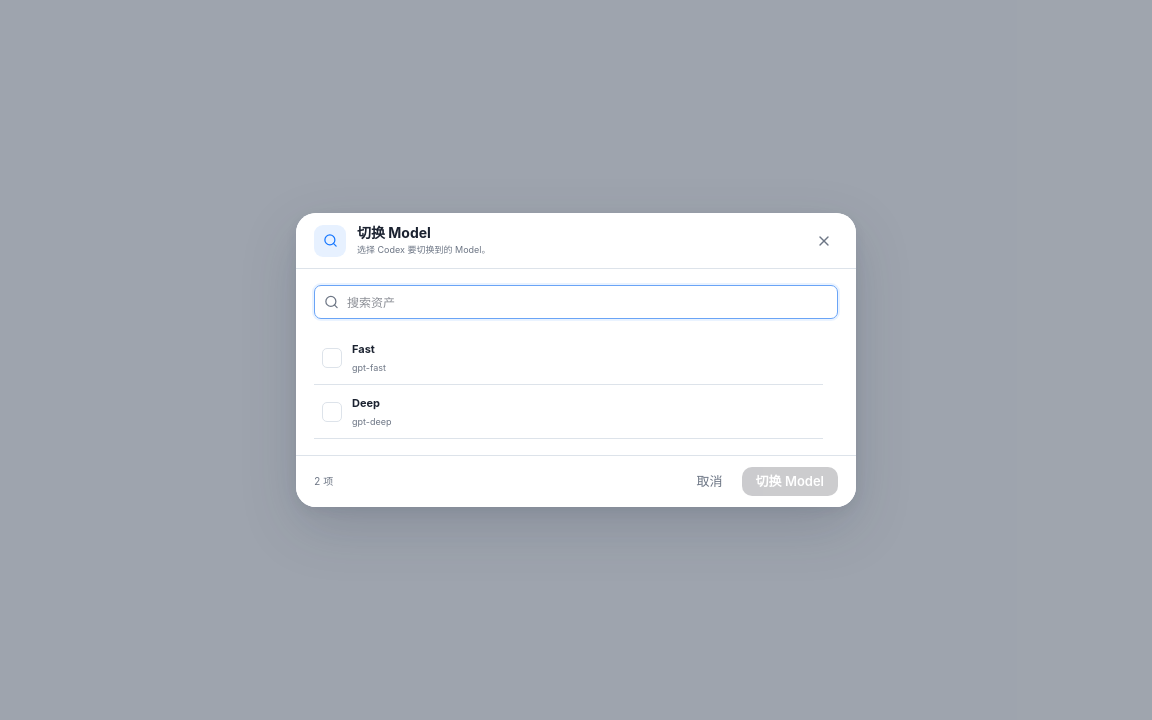
Test: selects one asset and names the direct Agent action
Later steps or results of the test are not shown.
Expected: the button "切换 Model" is disabled, x1=742 y1=467 x2=838 y2=496
Click the option "Deep gpt-deep" at (372, 422), box x1=314 y1=385 x2=823 y2=439
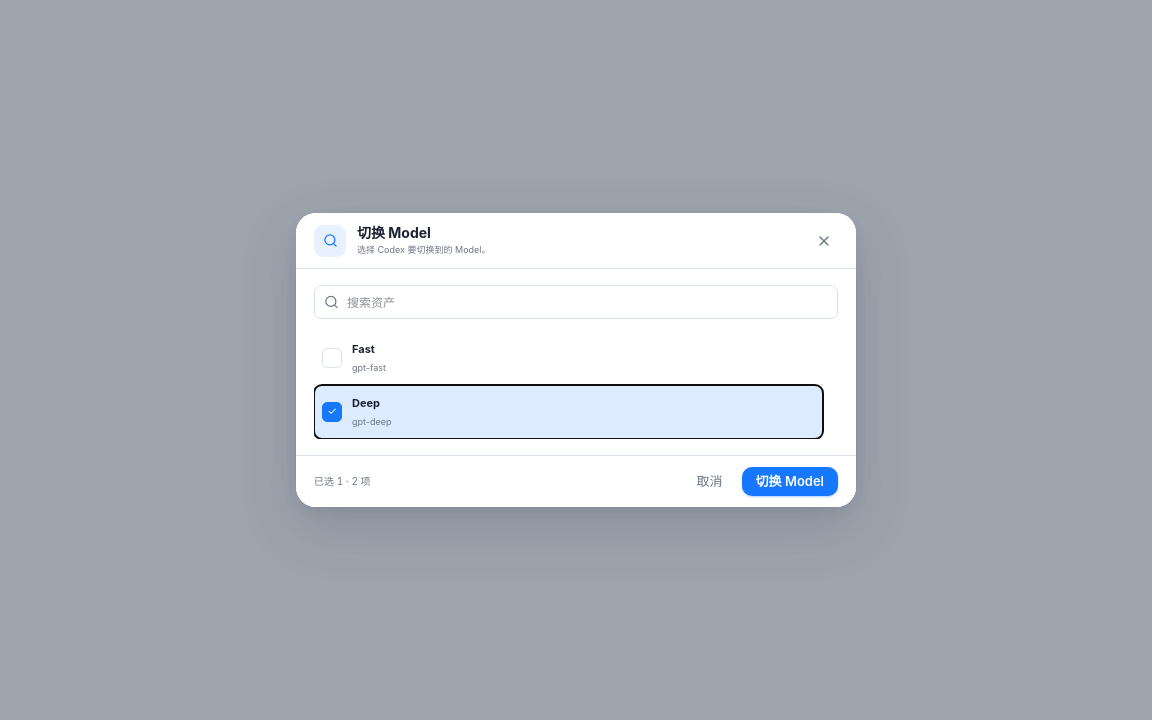
Expected: the button "切换 Model" is enabled, x1=742 y1=467 x2=838 y2=496
